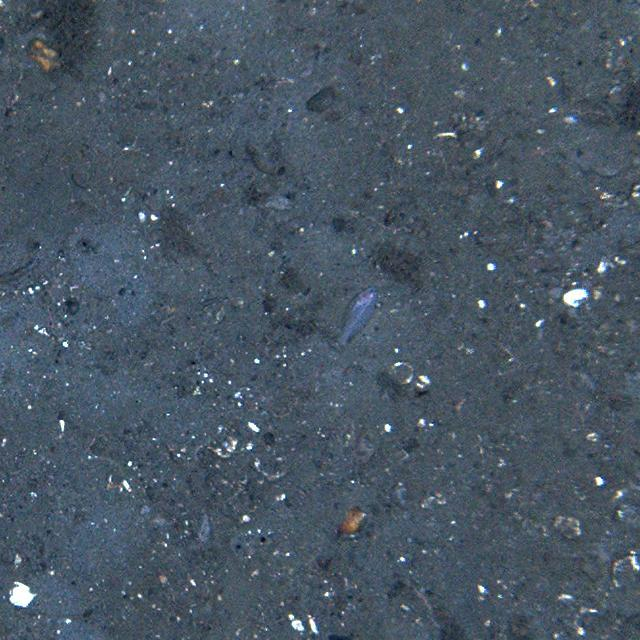flatfish: (334, 283, 379, 345)
